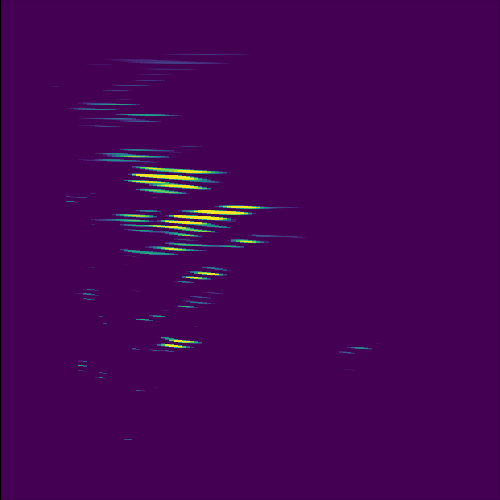semblance: (151, 201, 272, 232), (122, 163, 227, 196)
